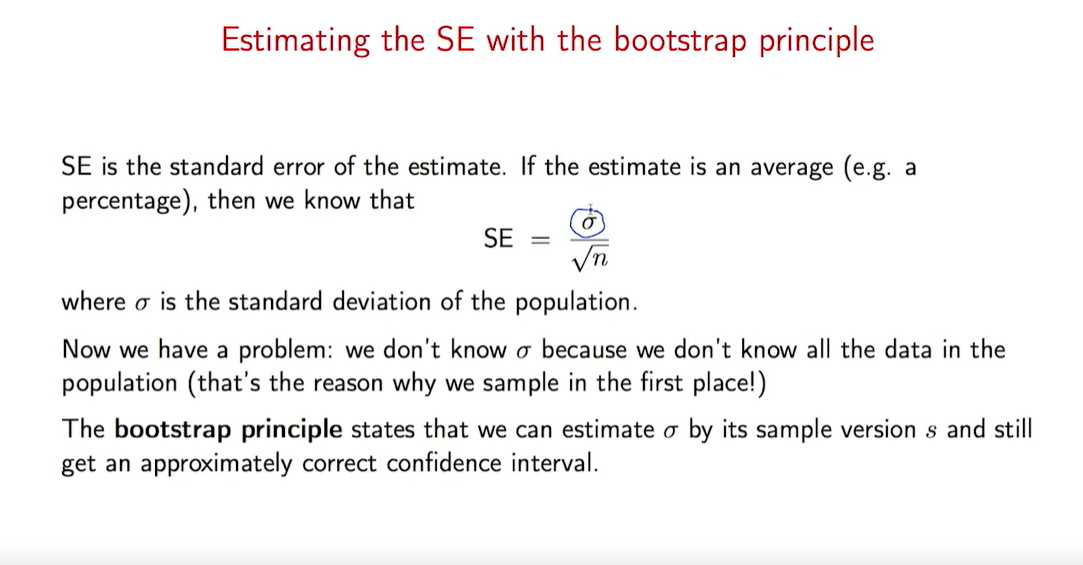equation: (476, 217, 612, 278)
text: (57, 414, 1039, 479), (61, 336, 1011, 400), (60, 151, 918, 216), (222, 26, 875, 63), (50, 286, 640, 317)
